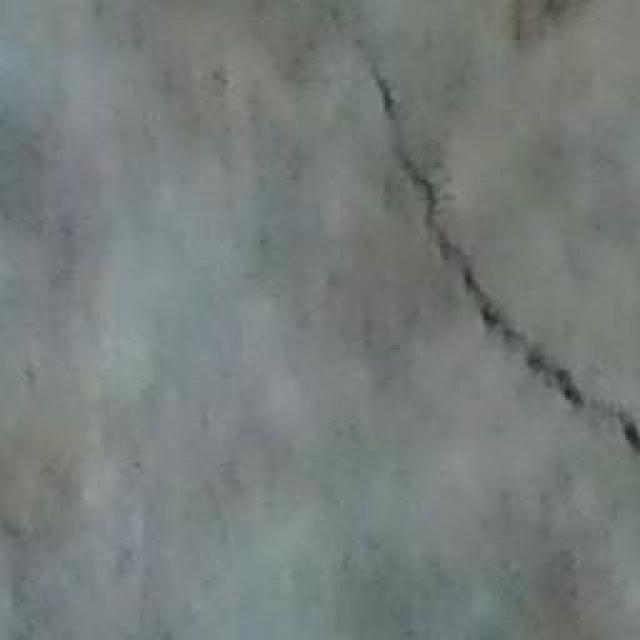Diagonal: (291, 12, 631, 477)
